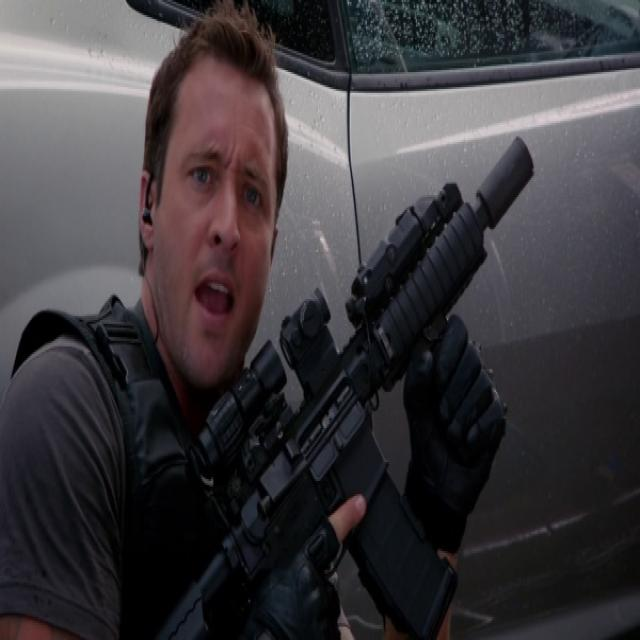rifle: (155, 129, 540, 640)
